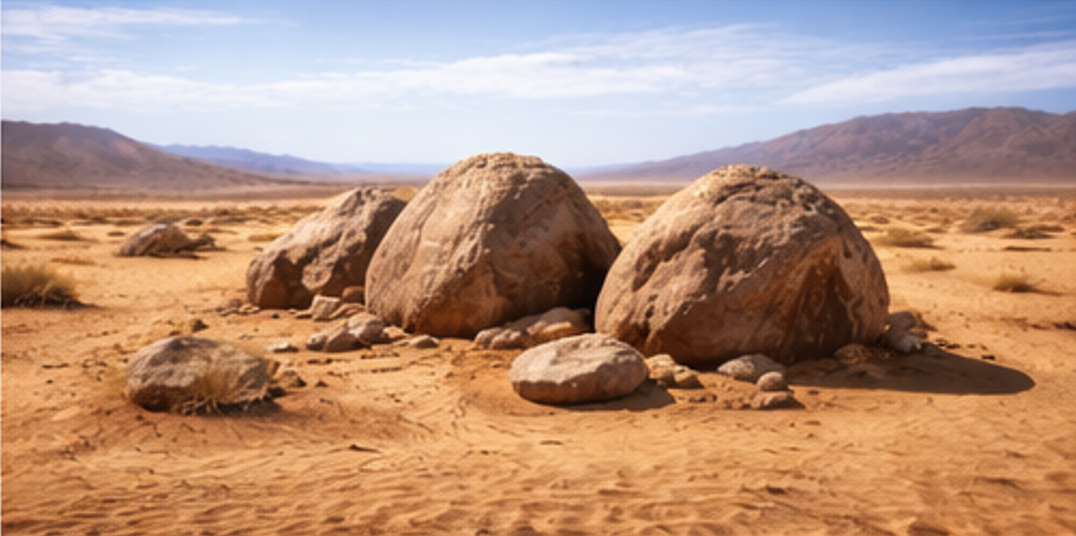rocks: (594, 165, 888, 363), (366, 153, 619, 336), (247, 188, 404, 306), (125, 336, 274, 412), (510, 333, 647, 403), (475, 306, 589, 347), (118, 222, 213, 255), (645, 354, 701, 387), (718, 354, 783, 382)
